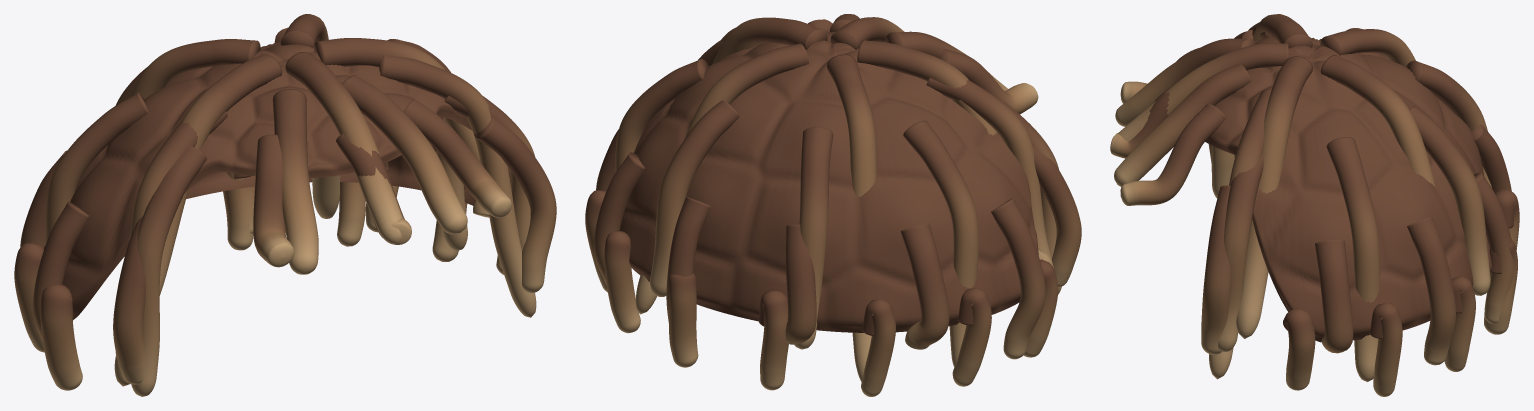
The model's file is Ombre-d146f7dcaade253-hair.glb.
3 renders of one model, left to right at view 1: azimuth 30°, elevation 25°; view 2: azimuth 150°, elevation 25°; view 3: azimuth 270°, elevation 25°, orthographic. The views are drawn at different scales.
Visible parts, largest first — view 1: 226 hair / Hair252 / sectioned locs; view 2: 226 hair / Hair252 / sectioned locs; view 3: 226 hair / Hair252 / sectioned locs.
Part boxes in pixels (<box>): 226 hair / Hair252 / sectioned locs: <box>14,14,556,396</box>; 226 hair / Hair252 / sectioned locs: <box>585,14,1081,396</box>; 226 hair / Hair252 / sectioned locs: <box>1110,14,1519,396</box>.
Bounding box in the file's own units: 1.1 × 0.6395 × 0.8956.
1 material, 1 textured.
